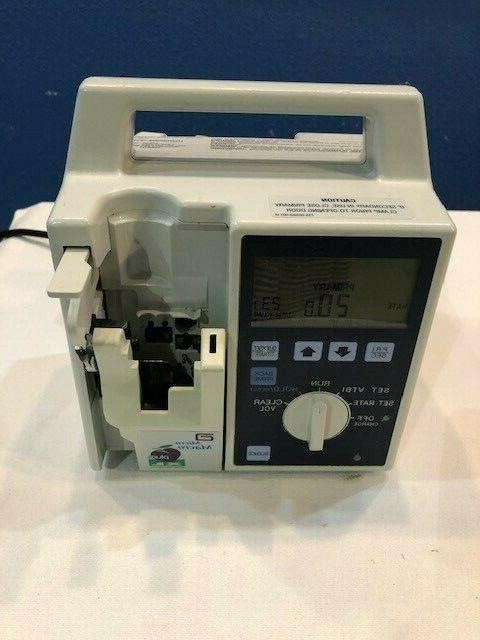plumxl1: (62, 67, 443, 477)
